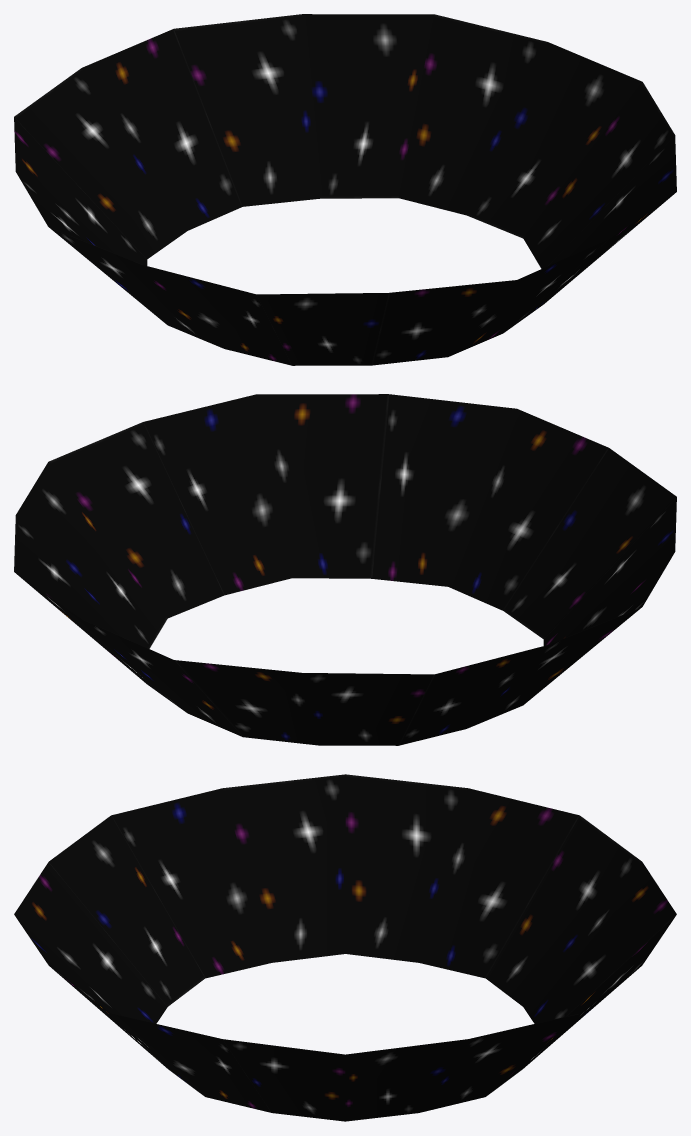
3 renders of one model, top to bottom at view 1: azimuth 30°, elevation 25°; view 2: azimuth 150°, elevation 25°; view 3: azimuth 270°, elevation 25°, orthographic. The views are drawn at different scales.
Parts seen in each view (by area): view 1: T1L7M007_30; view 2: T1L7M007_30; view 3: T1L7M007_30.
Part boxes in pixels (<box>): T1L7M007_30: <box>14,14,676,365</box>; T1L7M007_30: <box>14,394,676,745</box>; T1L7M007_30: <box>14,774,676,1121</box>.
Bounding box in the file's own units: 2.87 × 0.5947 × 2.87.
